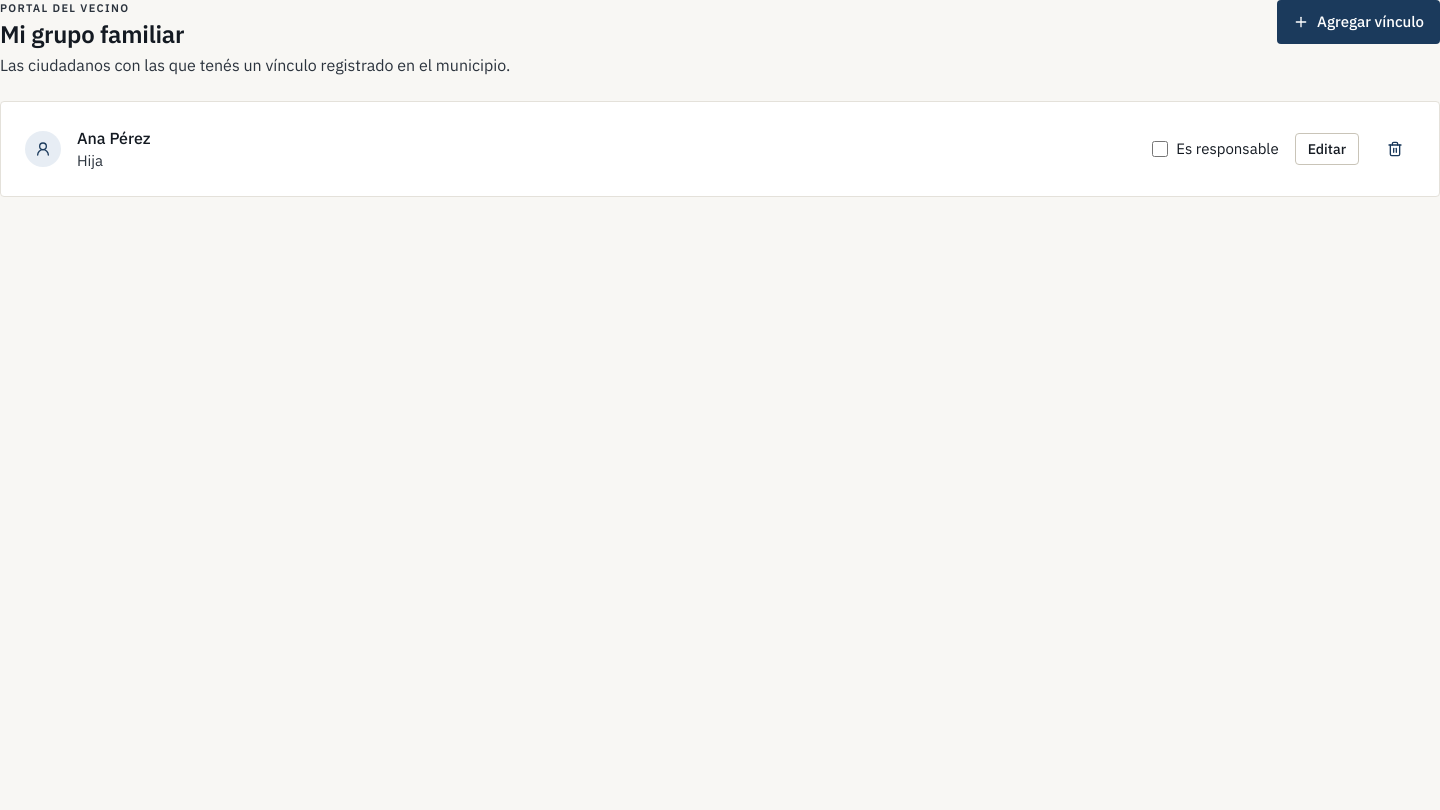
alta: buscar a la otra ciudadano › no deja vincularse con uno mismo
Click the button "Agregar vínculo" at coordinates (1359, 22), box [1277,0,1439,44]
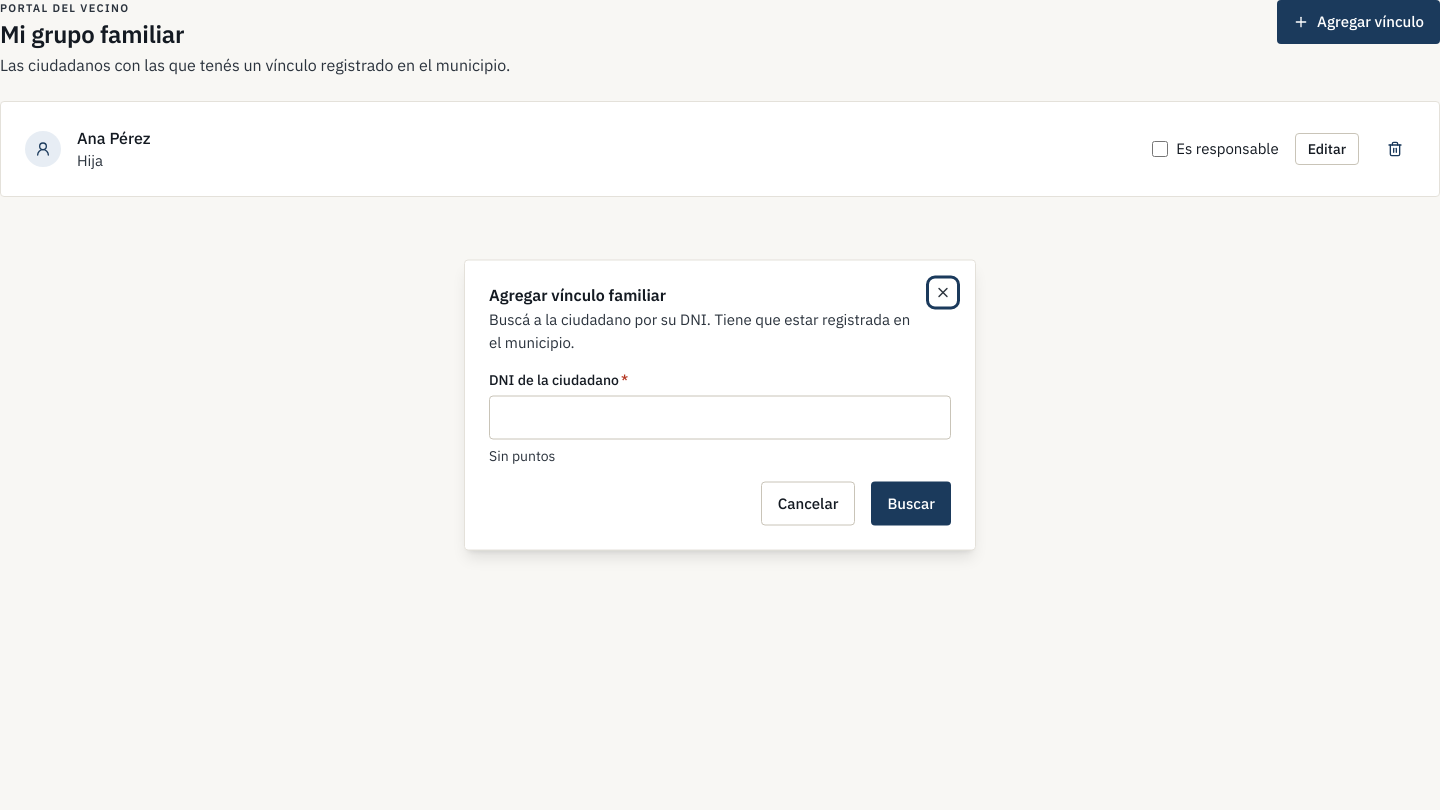
Type "34567890" into the field labelled "DNI de la ciudadano" at coordinates (720, 418), box [489,396,951,440]
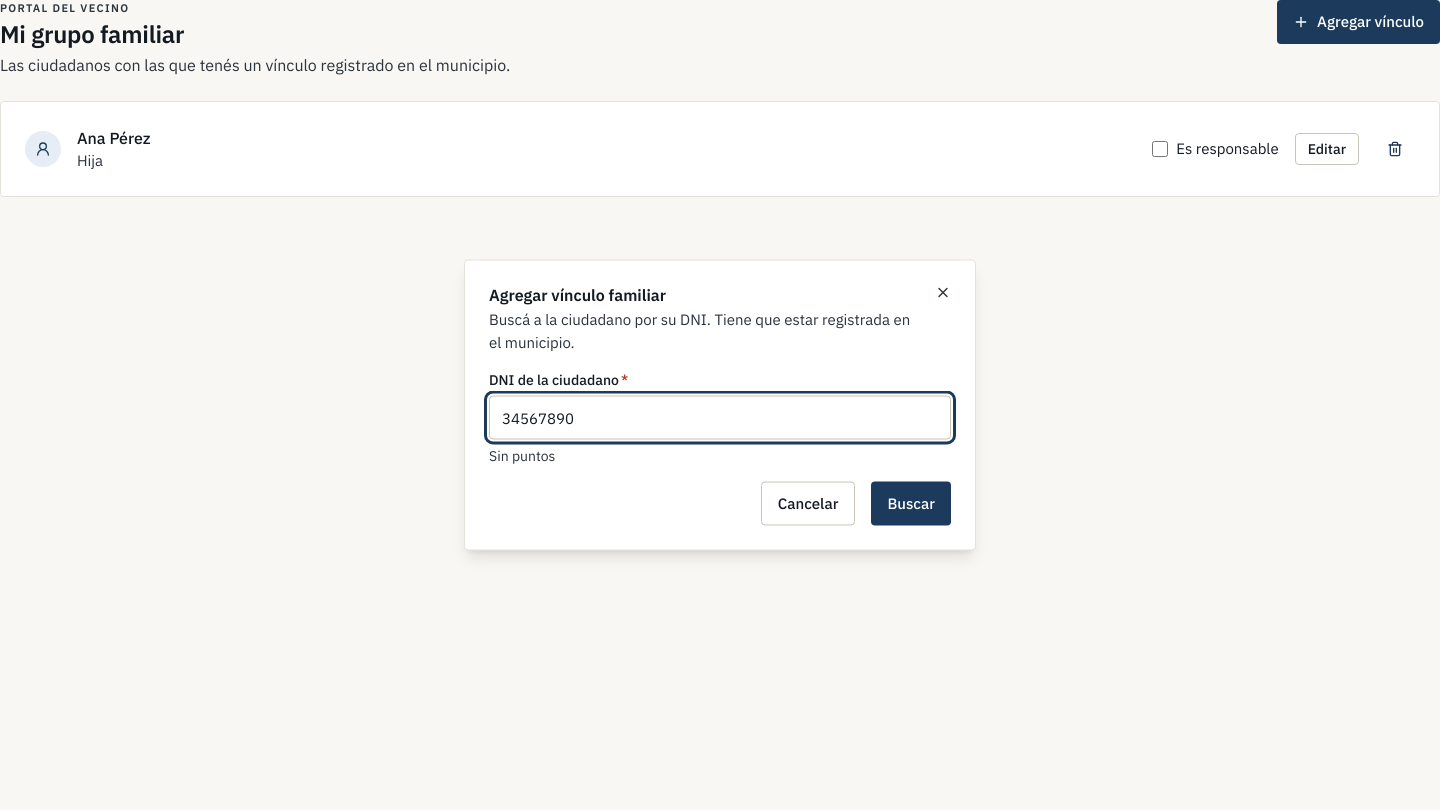
Click the button "Buscar" at coordinates (911, 504), box [871,482,951,526]
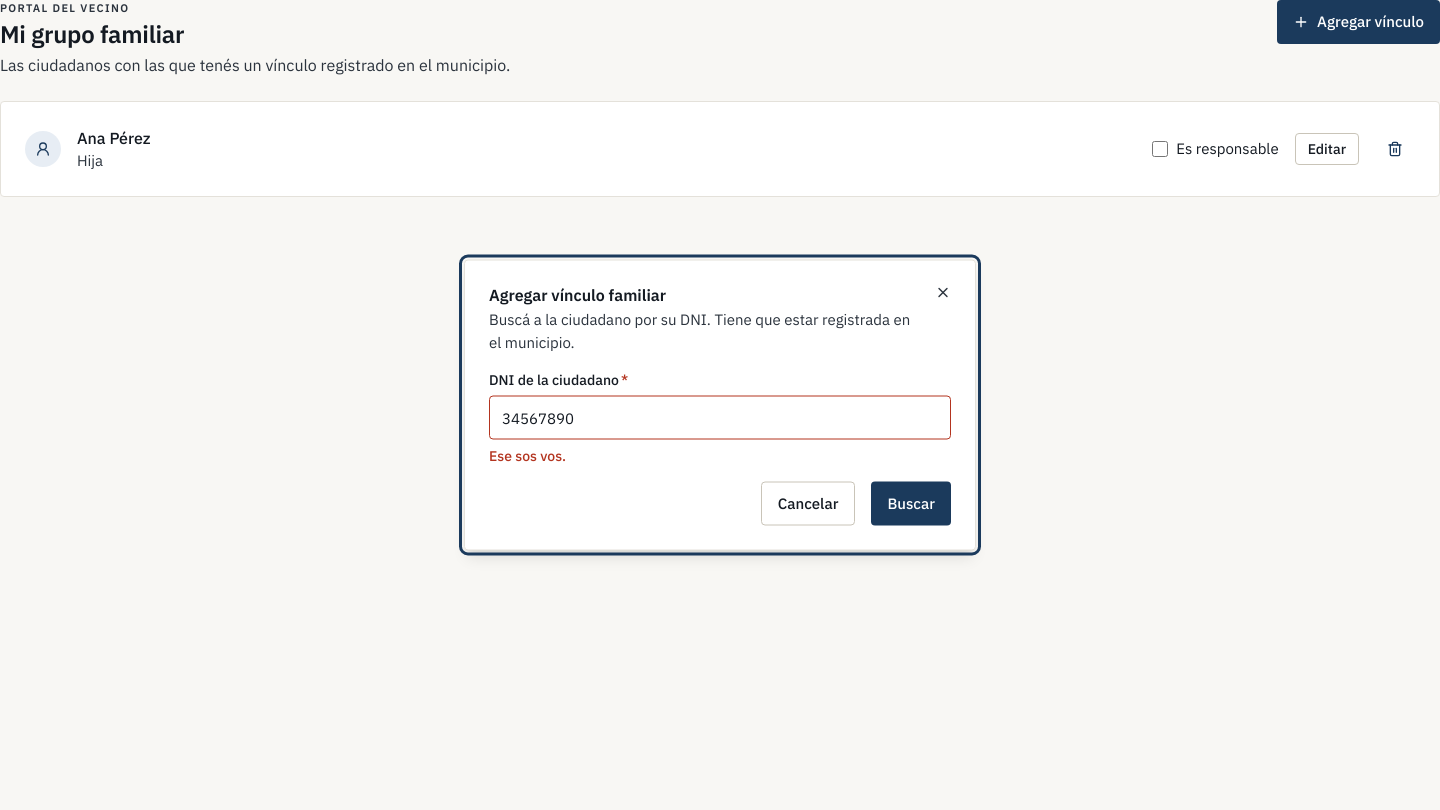
Result: the text "Ese sos vos." is shown at [489,446,566,464]
